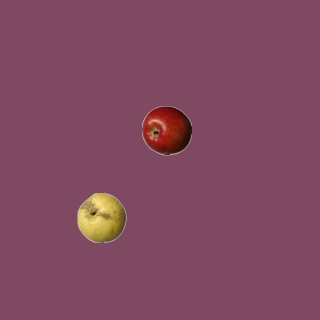Apple Braeburn: (141, 105, 191, 155)
Apple Golden 1: (76, 192, 126, 242)
